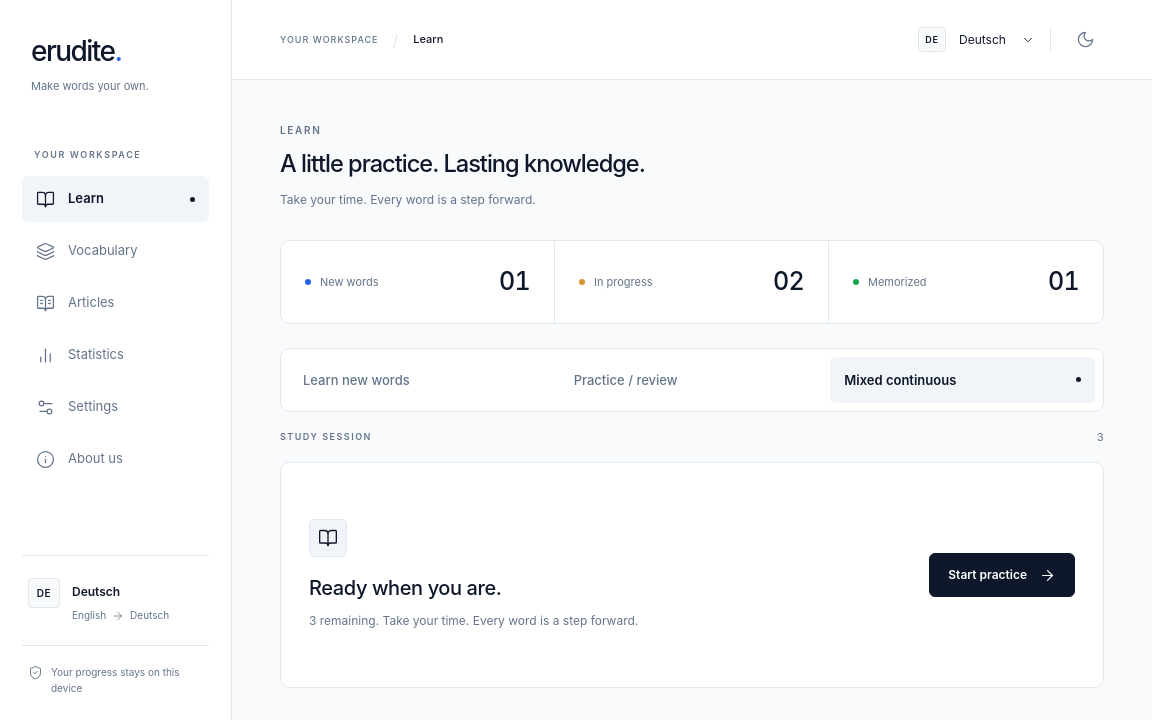
Scenario: new and reset word practice › shows each vocabulary word's status and remaining mastery recalls and updates after reset
The image size is (1152, 720).
Click the button "Vocabulary".
click(116, 251)  # box [22, 228, 209, 274]
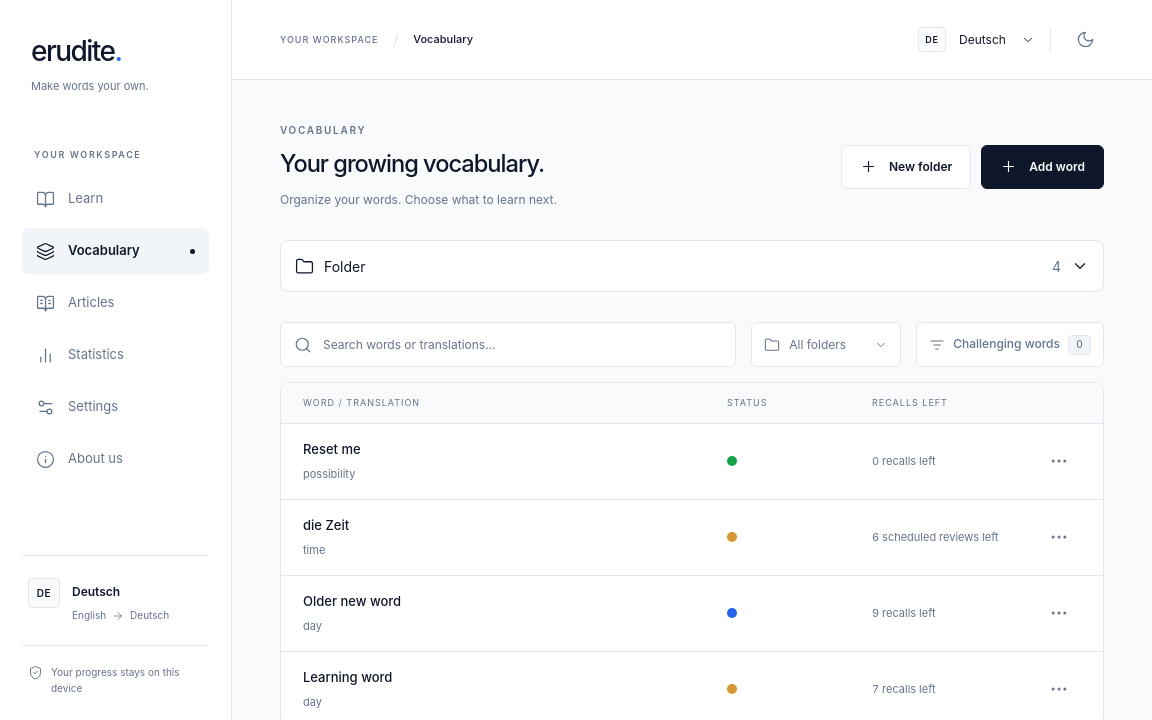
Now the text with class "word-review-count" reads "0 recalls left", box [872, 454, 936, 468]
Now the text with class "word-review-count" reads "9 recalls left", box [872, 606, 936, 620]
Now the text with class "word-review-count" reads "6 scheduled reviews left", box [872, 530, 998, 544]
Click the button named "Word actions: Reset me".
click(1059, 461)  # box [1037, 439, 1081, 483]
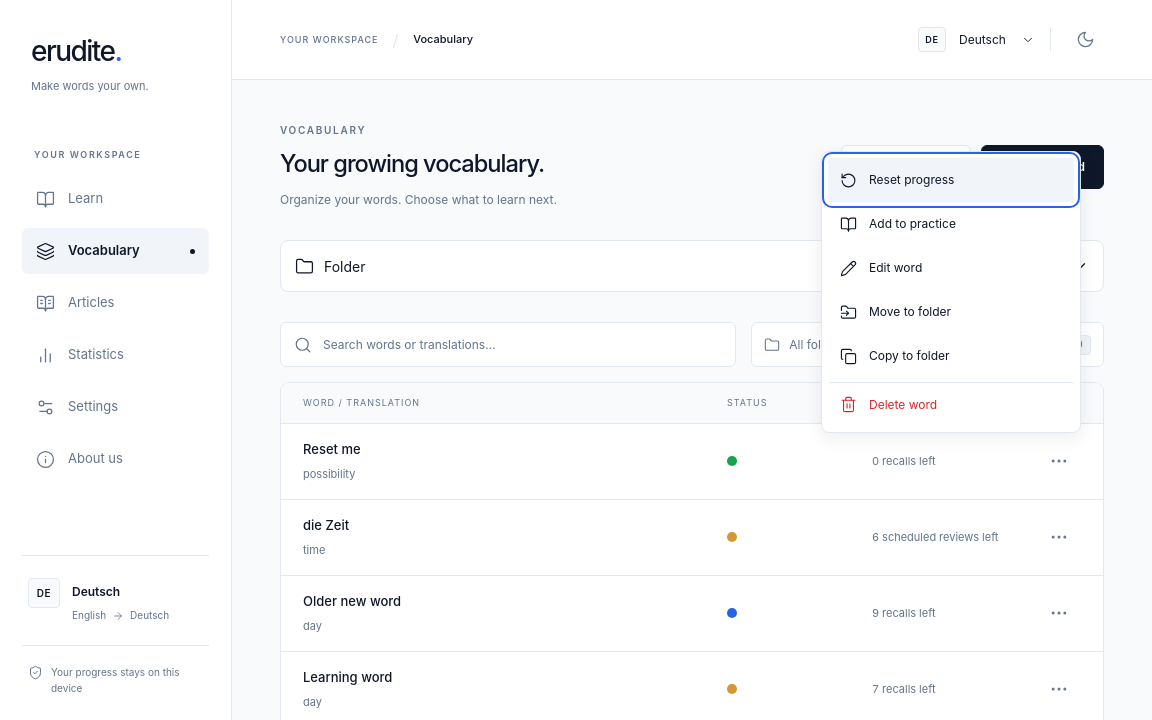
Click the menu item "Reset progress".
click(951, 180)  # box [828, 158, 1074, 202]
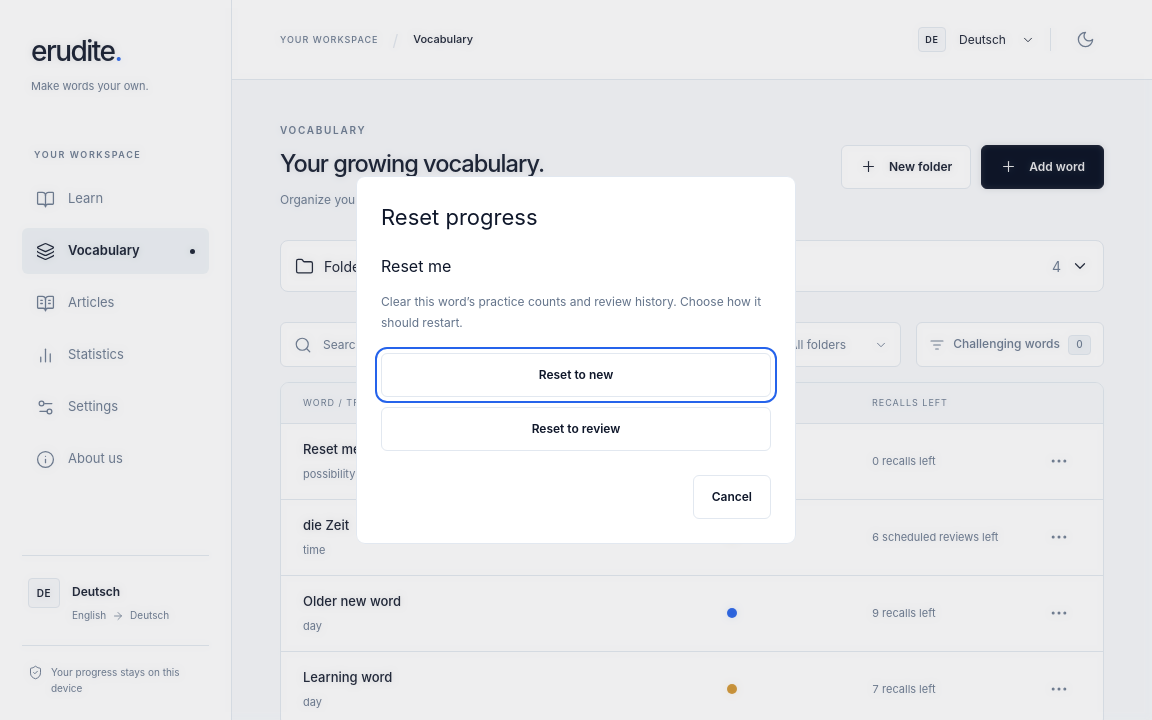
Click the button "Reset to new".
click(576, 375)  # box [381, 353, 771, 397]
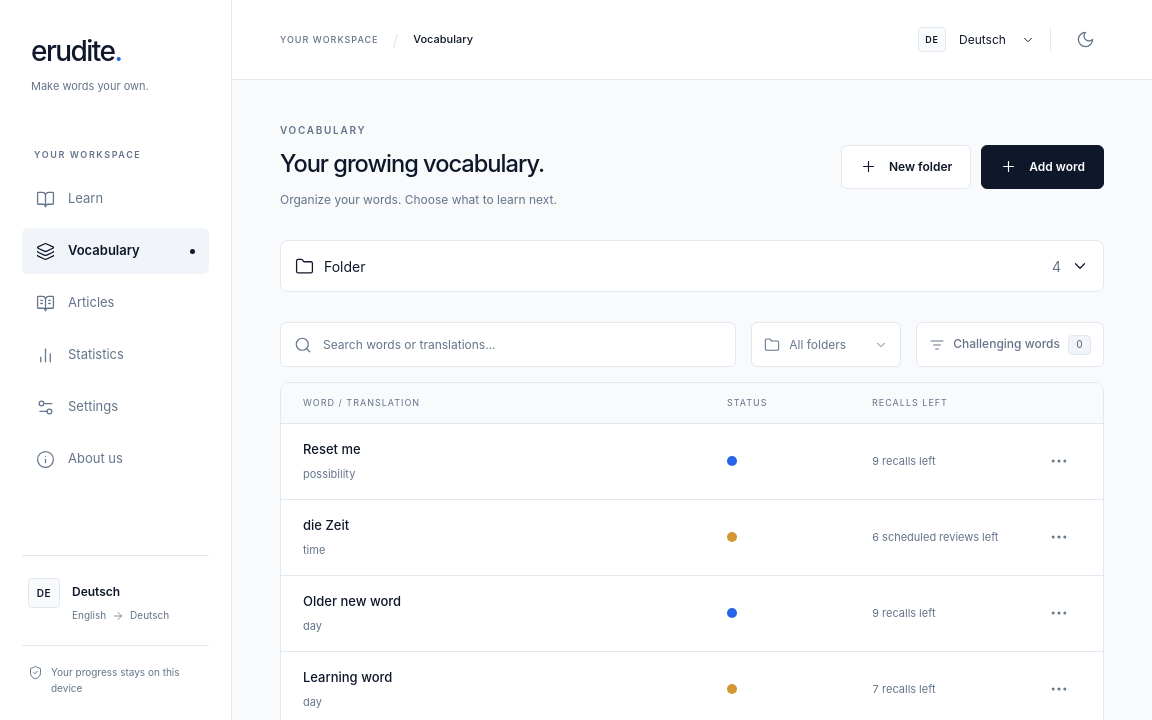
Now the 1st text with class "word-review-count" reads "9 recalls left", box [872, 454, 936, 468]
